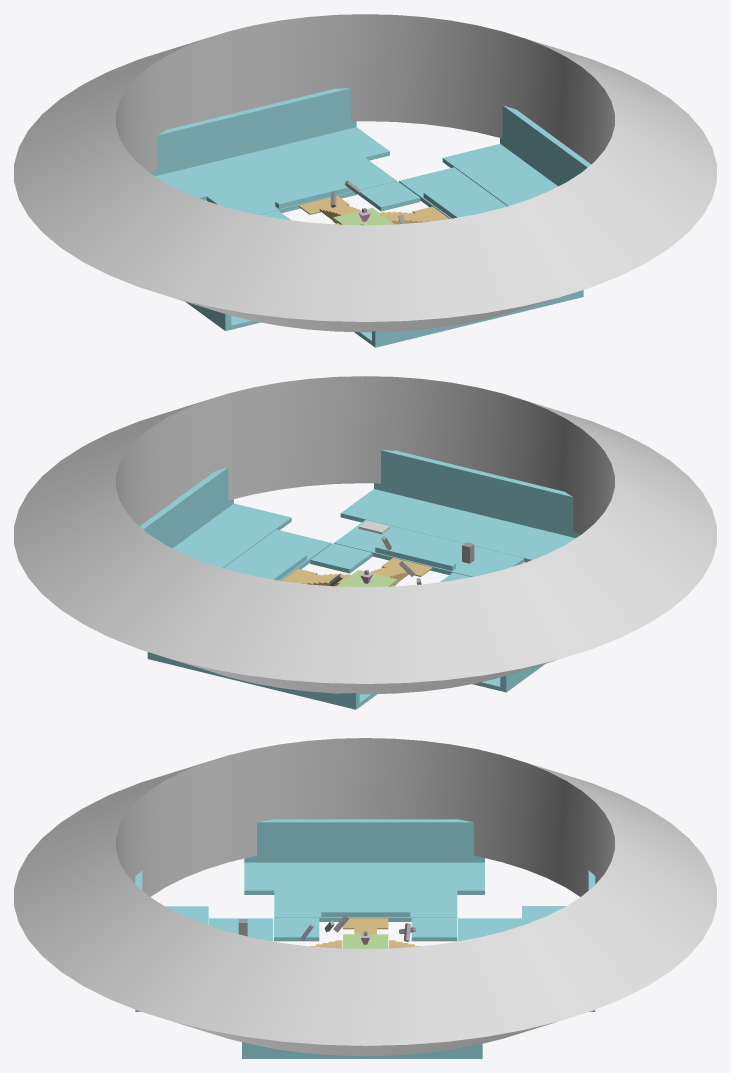
3 renders of one model, top to bottom at view 1: azimuth 30°, elevation 25°; view 2: azimuth 150°, elevation 25°; view 3: azimuth 270°, elevation 25°, orthographic.
Parts seen in each view (by area): view 1: 圆环, pCube19, pCube20, pCube18, pCube17, pCube22, pCube3, pCube21, pCube32, pCube9; view 2: 圆环, pCube22, pCube20, pCube16, pCube17, pCube19, pCube2, pCube30, pCube21, pCube9; view 3: 圆环, pCube21, pCube15, pCube20, pCube4, pCube1, pCube18, pCube16, pCube31, pCube22, pCube19, pCube9.
Boxes of the visible parts, x1=… form: 圆环: x1=14, y1=14, x2=716, y2=332; pCube19: x1=150, y1=88, x2=389, y2=200; pCube20: x1=442, y1=105, x2=590, y2=206; pCube18: x1=206, y1=157, x2=396, y2=214; pCube17: x1=399, y1=167, x2=507, y2=218; pCube22: x1=354, y1=290, x2=583, y2=347; pCube3: x1=358, y1=181, x2=420, y2=211; pCube21: x1=186, y1=302, x2=260, y2=330; pCube32: x1=275, y1=183, x2=355, y2=208; pCube9: x1=333, y1=208, x2=394, y2=225; 圆环: x1=14, y1=376, x2=716, y2=694; pCube22: x1=340, y1=450, x2=580, y2=562; pCube20: x1=140, y1=467, x2=291, y2=568; pCube16: x1=334, y1=519, x2=524, y2=576; pCube17: x1=223, y1=529, x2=331, y2=580; pCube19: x1=147, y1=652, x2=377, y2=709; pCube2: x1=310, y1=543, x2=372, y2=573; pCube30: x1=375, y1=545, x2=455, y2=570; pCube21: x1=472, y1=664, x2=544, y2=692; pCube9: x1=336, y1=570, x2=397, y2=587; 圆环: x1=14, y1=738, x2=716, y2=1056; pCube21: x1=244, y1=819, x2=484, y2=894; pCube15: x1=274, y1=890, x2=457, y2=921; pCube20: x1=242, y1=1042, x2=482, y2=1058; pCube4: x1=411, y1=918, x2=457, y2=941; pCube1: x1=274, y1=918, x2=319, y2=941; pCube18: x1=458, y1=918, x2=521, y2=941; pCube16: x1=209, y1=918, x2=272, y2=941; pCube31: x1=321, y1=909, x2=410, y2=916; pCube22: x1=135, y1=870, x2=208, y2=1011; pCube19: x1=522, y1=870, x2=595, y2=1011; pCube9: x1=343, y1=934, x2=388, y2=948.
Size of the model in its own units: 155 by 28.68 by 155.
